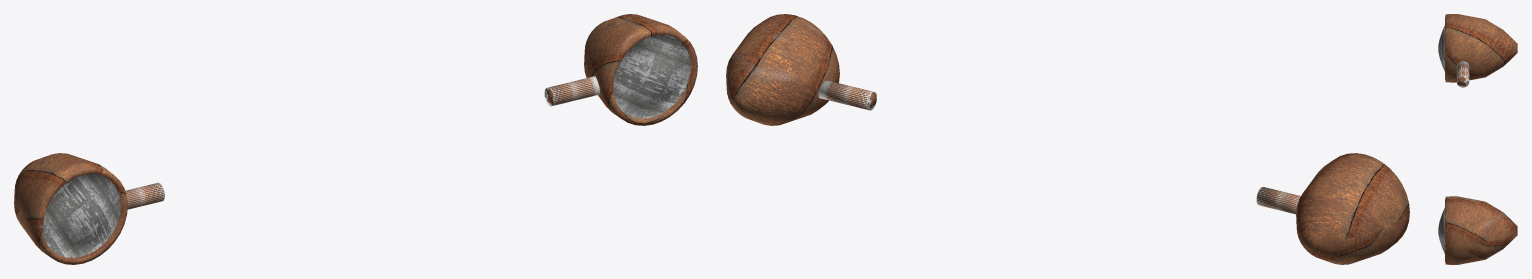
Rendered from frontlight.obj.
The picture shows the model from 3 angles, left to right: view 1: azimuth 30°, elevation 25°; view 2: azimuth 150°, elevation 25°; view 3: azimuth 270°, elevation 25°; orthographic projection. The views are drawn at different scales.
Visible parts, largest first — view 1: headlight.001_Cylinder.007; view 2: headlight.001_Cylinder.007; view 3: headlight.001_Cylinder.007.
Boxes of the visible parts, bbox=[...] form: headlight.001_Cylinder.007: bbox=[14, 14, 697, 264]; headlight.001_Cylinder.007: bbox=[726, 14, 1409, 264]; headlight.001_Cylinder.007: bbox=[1438, 14, 1517, 264].
Bounding box in the file's own units: 4.29 × 0.5898 × 0.6781.
